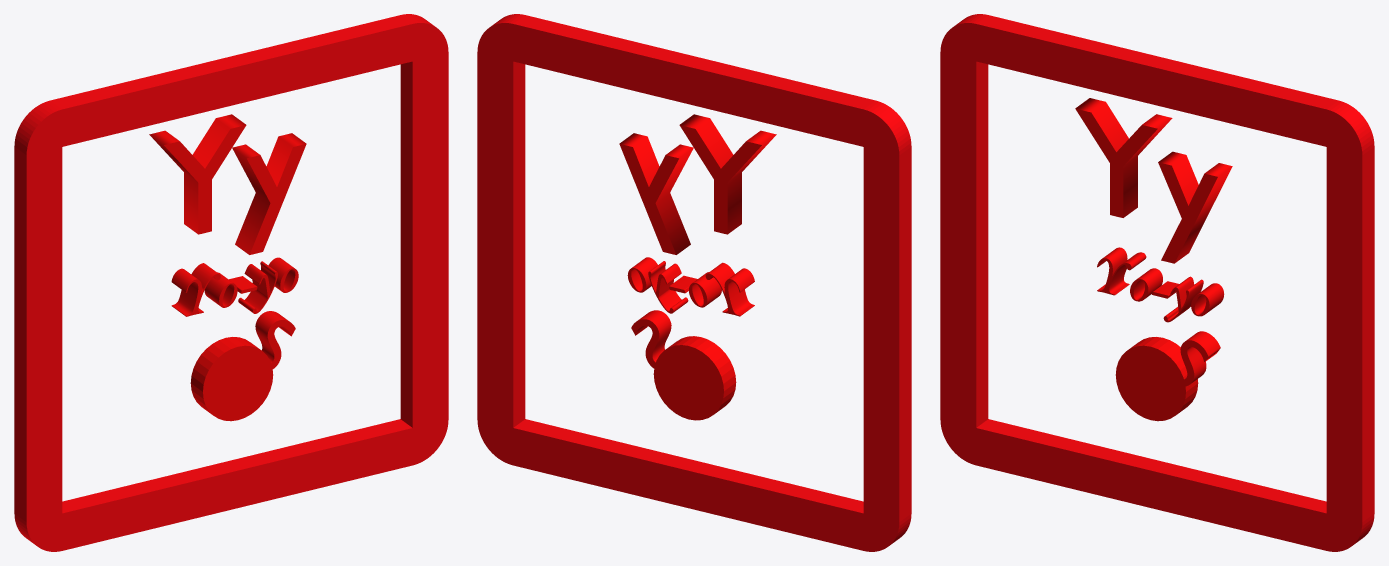
The model's file is Letter_Y.glb.
The picture shows the model from 3 angles, left to right: view 1: azimuth 30°, elevation 25°; view 2: azimuth 150°, elevation 25°; view 3: azimuth 330°, elevation 25°; orthographic projection.
Parts seen in each view (by area): view 1: Cube, Text, Cylinder, Text.002, Text.001; view 2: Cube, Text, Cylinder, Text.002, Text.001; view 3: Cube, Text, Cylinder, Text.002, Text.001.
Boxes of the visible parts, x1,y1,x2,y2 form: Cube: [14, 14, 448, 551]; Text: [149, 114, 306, 254]; Cylinder: [190, 337, 273, 421]; Text.002: [171, 257, 298, 316]; Text.001: [255, 311, 295, 368]; Cube: [477, 14, 911, 551]; Text: [619, 114, 776, 254]; Cylinder: [653, 336, 736, 420]; Text.002: [627, 257, 754, 316]; Text.001: [631, 310, 674, 370]; Cube: [940, 14, 1374, 551]; Text: [1075, 98, 1232, 263]; Cylinder: [1115, 337, 1198, 421]; Text.002: [1097, 247, 1224, 322]; Text.001: [1180, 331, 1220, 386].
Size of the model in its own units: 2 by 2 by 0.122.
